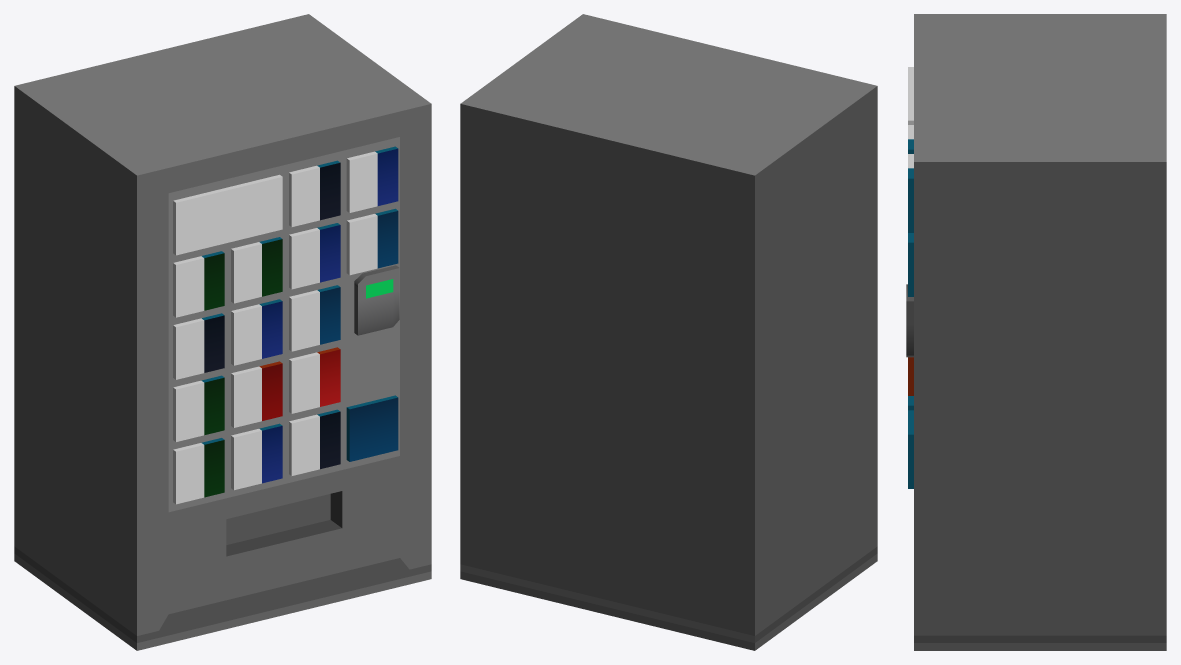
File: VendingMachine_Labeled.fbx
The picture shows the model from 3 angles, left to right: view 1: azimuth 30°, elevation 25°; view 2: azimuth 150°, elevation 25°; view 3: azimuth 270°, elevation 25°; orthographic projection. The views are drawn at different scales.
Visible parts, largest first — view 1: VendingMachine_Labeled; view 2: VendingMachine_Labeled; view 3: VendingMachine_Labeled.
Boxes of the visible parts, bbox=[...] form: VendingMachine_Labeled: bbox=[14, 14, 431, 650]; VendingMachine_Labeled: bbox=[460, 14, 877, 650]; VendingMachine_Labeled: bbox=[906, 14, 1166, 650].
Bounding box in the file's own units: 137 × 212 × 102.
